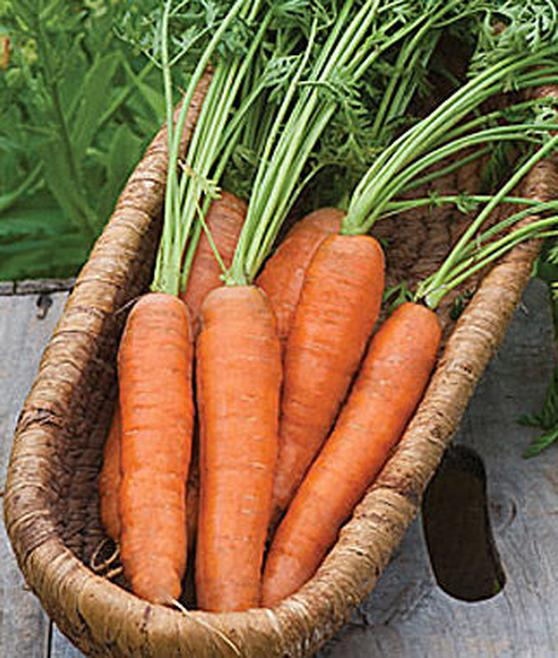carrot: (192, 277, 289, 625), (286, 220, 389, 525), (112, 277, 199, 613)
